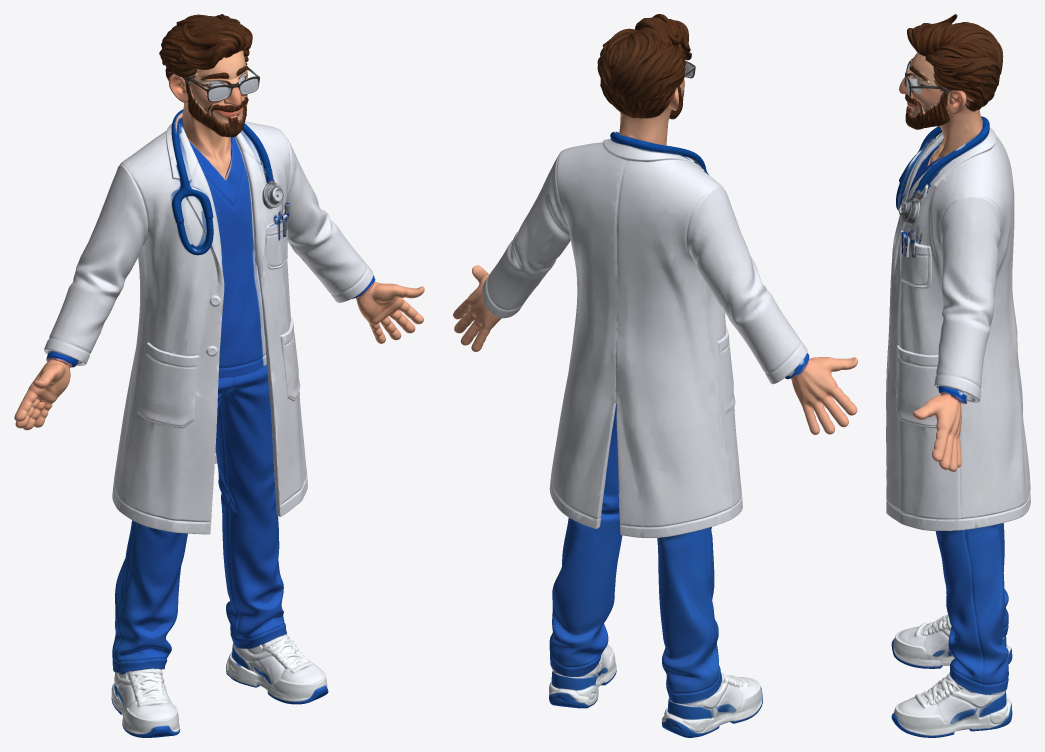
3 views of the same model, side by side, from view 1: azimuth 30°, elevation 25°; view 2: azimuth 150°, elevation 25°; view 3: azimuth 270°, elevation 25° (orthographic). The views are drawn at different scales.
Parts seen in each view (by area): view 1: doctor; view 2: doctor; view 3: doctor.
Part boxes in pixels (box(x1,y1,x2,y2)): doctor: box(14, 14, 424, 737); doctor: box(453, 14, 857, 737); doctor: box(886, 14, 1030, 737).
Bounding box in the file's own units: 1.12 × 1.8 × 0.3535.
Materials: 1 (1 with a texture image).
